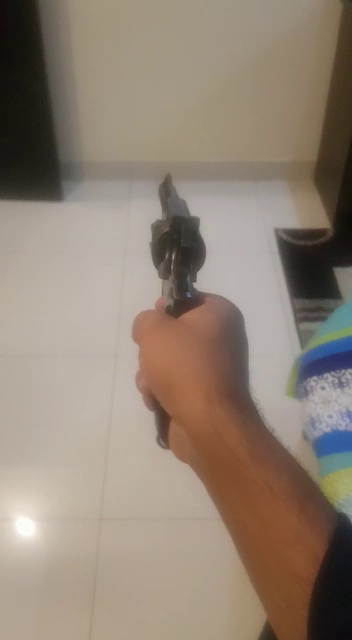handgun: (135, 167, 211, 496)
